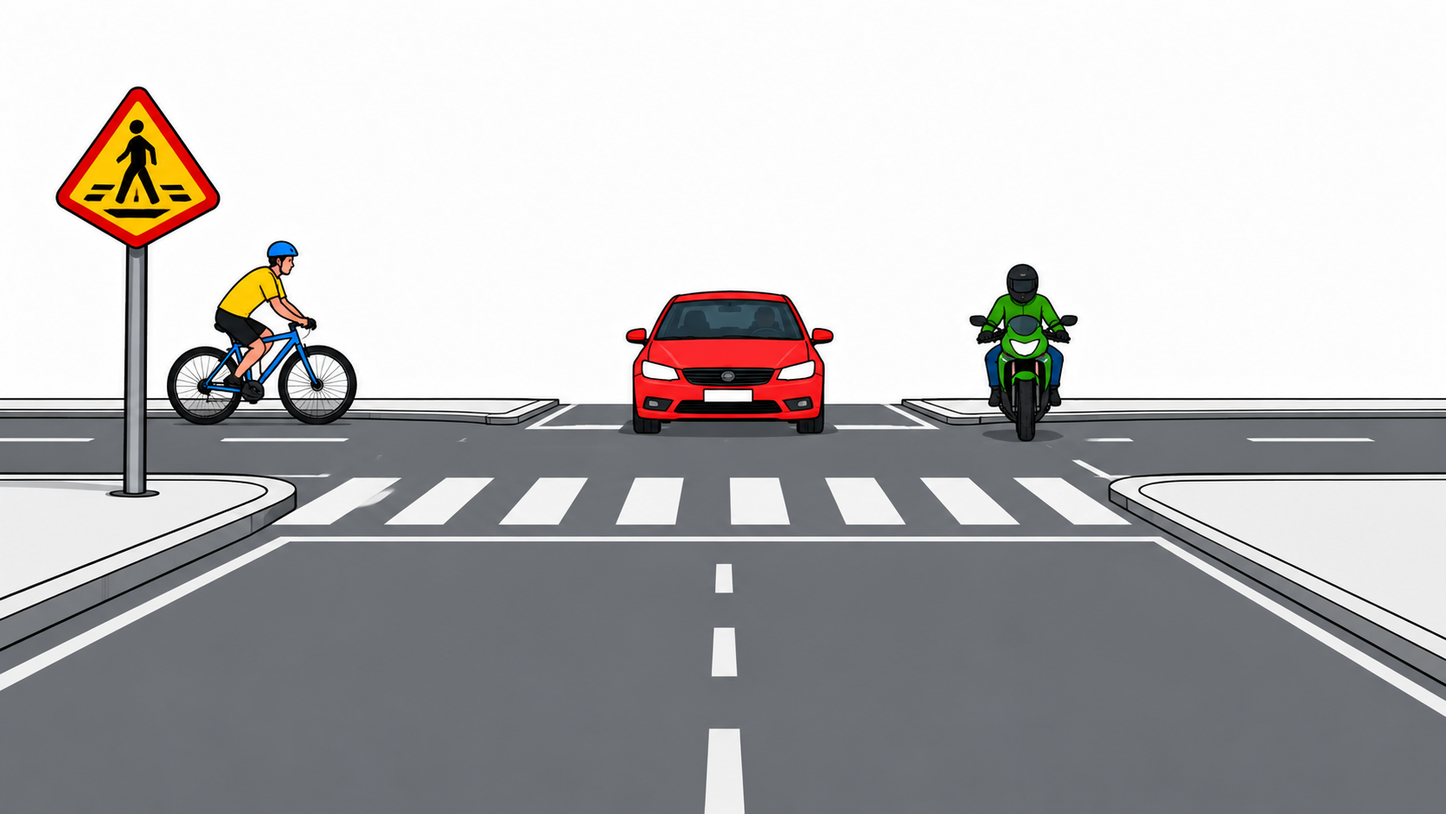bicycle: (163, 314, 362, 434)
car: (621, 288, 838, 441)
crossing_warning_sign: (53, 85, 221, 249)
motorcycle: (961, 311, 1091, 446)
person: (963, 260, 1084, 417), (212, 239, 323, 394)
zebra_crossing: (264, 468, 1162, 539)
